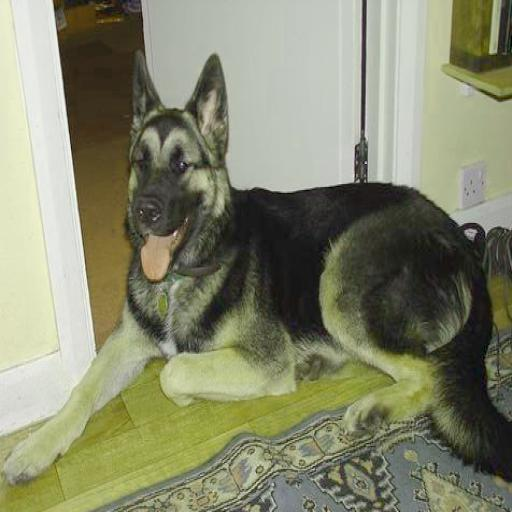dog_face: (125, 54, 232, 260)
